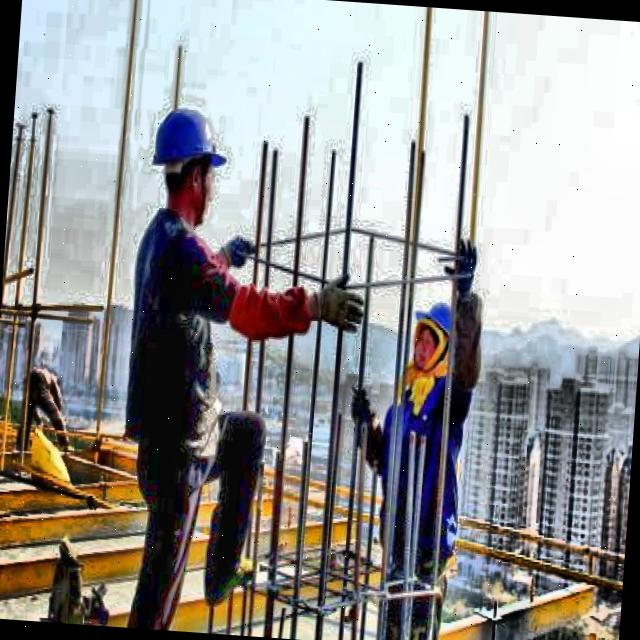helmet: (143, 95, 227, 229), (408, 293, 454, 384)
